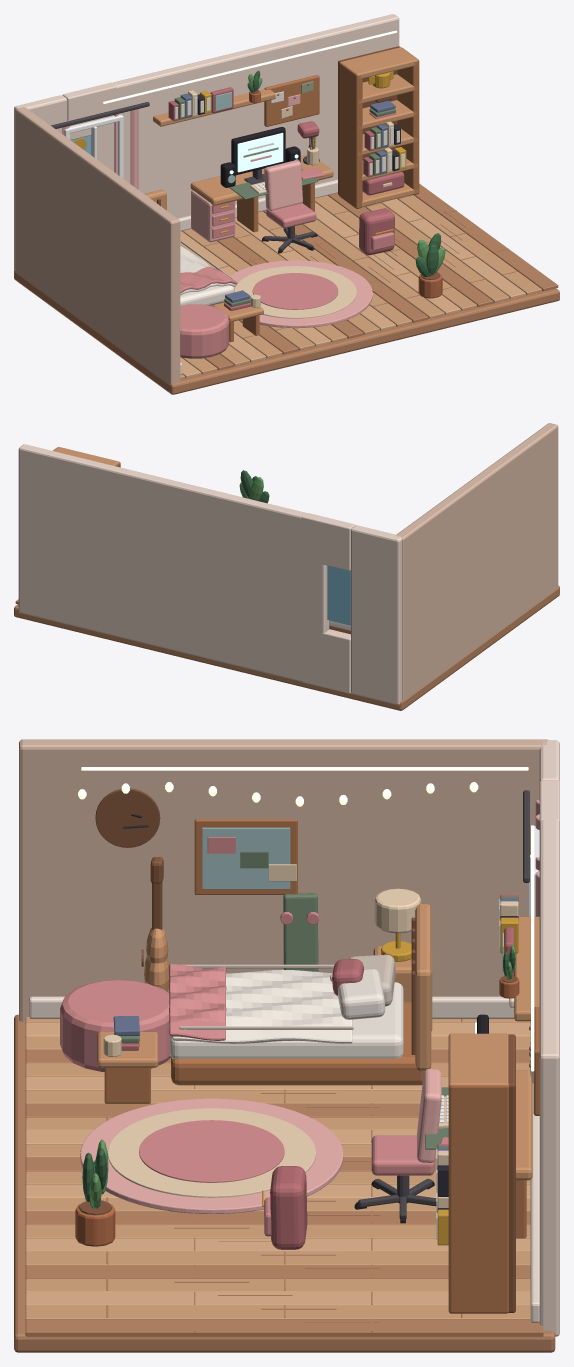
File: habitacion-cozy-premium.glb
3 renders of one model, top to bottom at view 1: azimuth 30°, elevation 25°; view 2: azimuth 150°, elevation 25°; view 3: azimuth 270°, elevation 25°, orthographic. The views are drawn at different scales.
Visible parts, largest first — view 1: Architecture_LeftWall, BATCH_root_WALL, BATCH_root_FLOOR_DARK, BATCH_root_FLOOR, BATCH_root_OAK, BATCH_root_PINK, BATCH_root_OAK_LIGHT, BATCH_root_FLOOR_LIGHT, BATCH_root_PINK_LIGHT, BATCH_root_CREAM, BATCH_root_PINK_DARK, BATCH_root_LINEN (+13 smaller); view 2: BATCH_root_WALL, Architecture_LeftWall, BATCH_root_FLOOR_DARK, Architecture_WindowGlass, BATCH_root_OAK_LIGHT; view 3: Architecture_LeftWall, BATCH_root_FLOOR_DARK, BATCH_root_FLOOR, BATCH_root_OAK, BATCH_root_PINK, BATCH_root_FLOOR_LIGHT, BATCH_root_LINEN, BATCH_root_OAK_LIGHT, BATCH_root_WALL, BATCH_root_CREAM, BATCH_root_PINK_LIGHT, BATCH_root_OAK_DARK (+10 smaller).
Boxes of the visible parts, x1,y1,x2,y2 form: Architecture_LeftWall: (15, 107, 180, 384); BATCH_root_WALL: (14, 14, 399, 269); BATCH_root_FLOOR_DARK: (14, 183, 559, 394); BATCH_root_FLOOR: (180, 195, 541, 379); BATCH_root_OAK: (211, 47, 419, 342); BATCH_root_PINK: (180, 168, 394, 358); BATCH_root_OAK_LIGHT: (144, 47, 418, 321); BATCH_root_FLOOR_LIGHT: (180, 198, 525, 378); BATCH_root_PINK_LIGHT: (62, 94, 372, 328); BATCH_root_CREAM: (188, 90, 393, 318); BATCH_root_PINK_DARK: (168, 83, 404, 310); BATCH_root_LINEN: (180, 245, 236, 305); BATCH_root_WALL: (18, 444, 401, 705); Architecture_LeftWall: (396, 423, 558, 700); BATCH_root_FLOOR_DARK: (14, 585, 559, 710); Architecture_WindowGlass: (327, 565, 350, 625); BATCH_root_OAK_LIGHT: (53, 447, 350, 631); Architecture_LeftWall: (19, 739, 548, 1021); BATCH_root_FLOOR_DARK: (14, 1014, 555, 1352); BATCH_root_FLOOR: (25, 1017, 530, 1319); BATCH_root_OAK: (104, 819, 539, 1313); BATCH_root_PINK: (60, 837, 448, 1236); BATCH_root_FLOOR_LIGHT: (25, 1023, 530, 1305); BATCH_root_LINEN: (170, 969, 403, 1058); BATCH_root_OAK_LIGHT: (97, 904, 539, 1180); BATCH_root_WALL: (539, 740, 559, 1336); BATCH_root_CREAM: (103, 864, 533, 1212); BATCH_root_PINK_LIGHT: (80, 800, 539, 1213); BATCH_root_OAK_DARK: (79, 788, 517, 1312).
Size of the model in its own units: 7.57 by 3.2 by 5.39.
